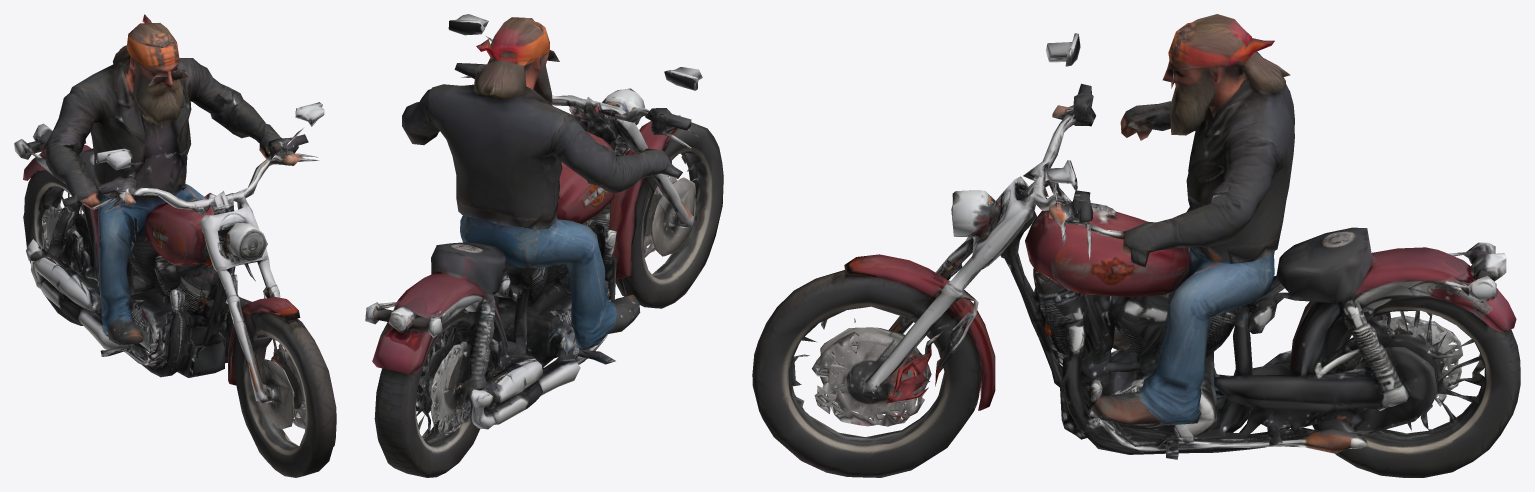
File: harley_davidson_chop_0705112757_texture.glb
3 renders of one model, left to right at view 1: azimuth 30°, elevation 25°; view 2: azimuth 150°, elevation 25°; view 3: azimuth 270°, elevation 25°, orthographic. The views are drawn at different scales.
Size of the model in its own units: 0.9296 by 1.31 by 2.
1 material, 1 textured.
